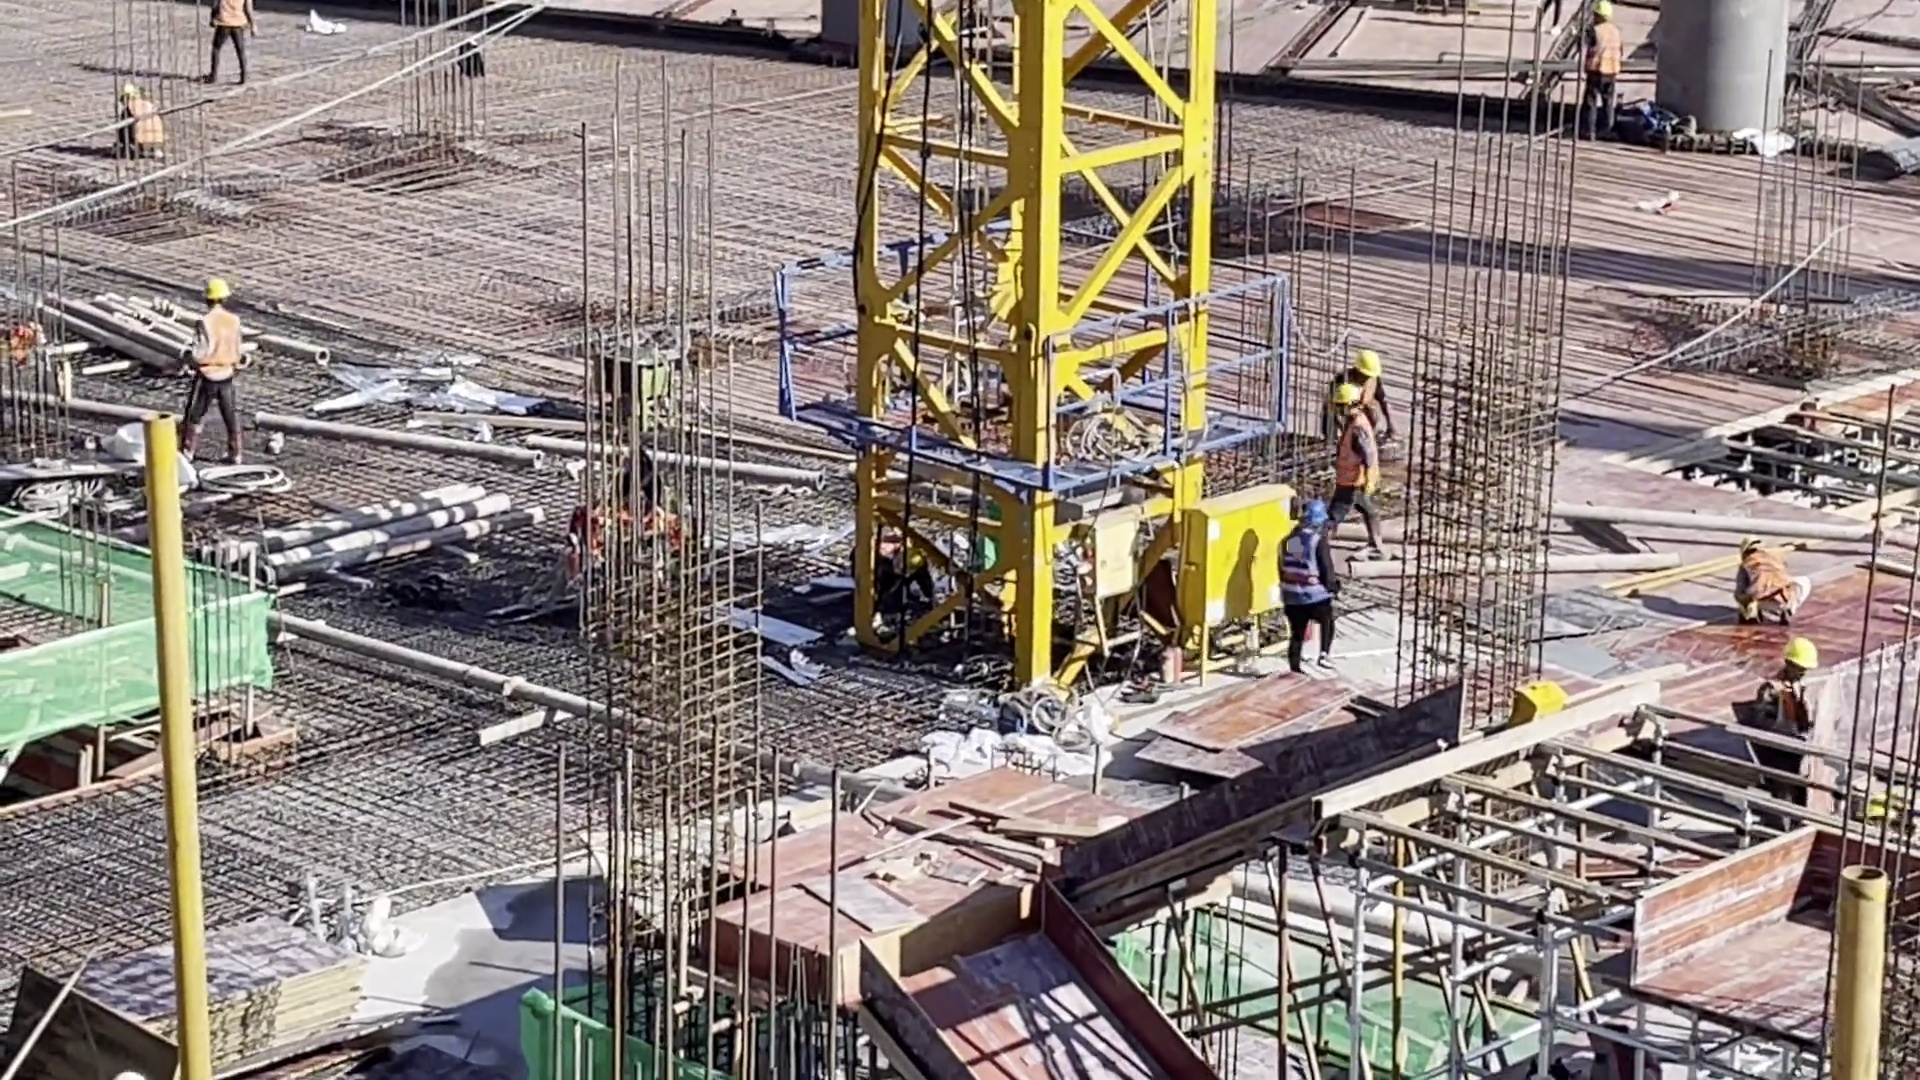helmet: (1783, 635, 1821, 671), (195, 280, 230, 306), (1327, 381, 1366, 403), (1354, 348, 1383, 378), (1299, 498, 1330, 526)
person: (177, 279, 253, 469), (1326, 379, 1394, 568), (1270, 497, 1338, 670), (1327, 347, 1406, 450), (1731, 534, 1812, 621), (1753, 628, 1820, 729), (1578, 1, 1624, 133), (106, 77, 168, 156), (209, 1, 250, 86)
vest: (1269, 535, 1333, 625), (1331, 413, 1375, 493), (194, 307, 242, 381), (1738, 551, 1788, 604), (1589, 25, 1628, 80), (213, 1, 247, 34)
